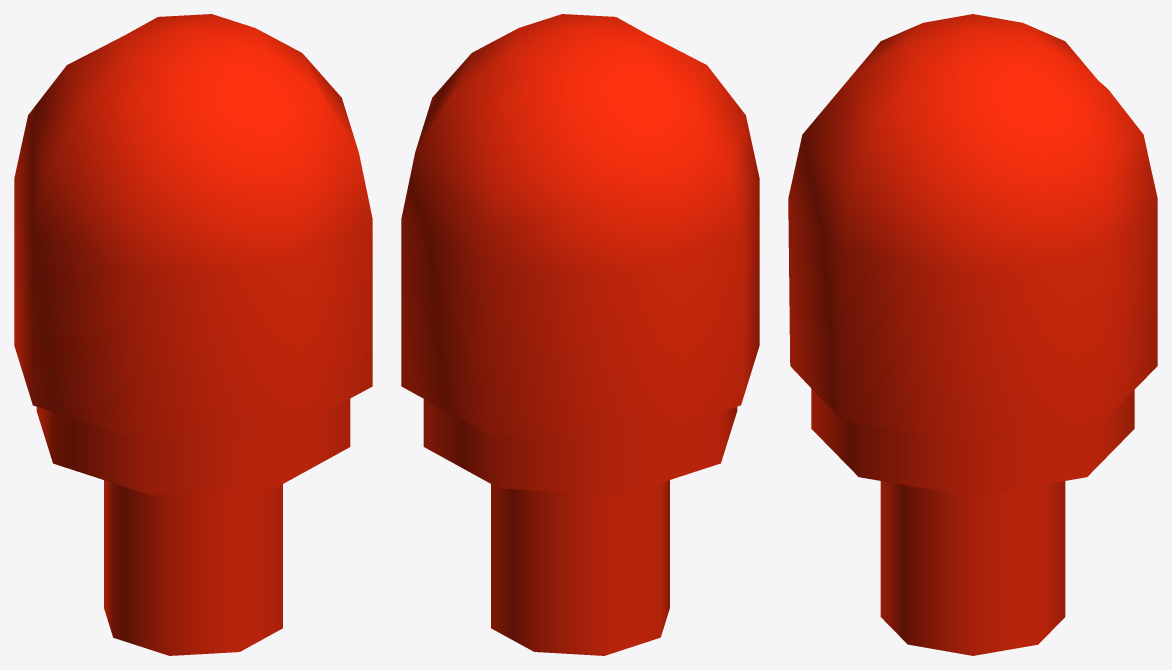
The model's file is PortalGun_AmmoOrange.obj.
The picture shows the model from 3 angles, left to right: view 1: azimuth 30°, elevation 25°; view 2: azimuth 150°, elevation 25°; view 3: azimuth 270°, elevation 25°; orthographic projection.
Visible parts, largest first — view 1: CHELLPORTALGUN_NXG0002; view 2: CHELLPORTALGUN_NXG0002; view 3: CHELLPORTALGUN_NXG0002.
Part boxes in pixels (bbox=[...]): CHELLPORTALGUN_NXG0002: bbox=[14, 14, 372, 655]; CHELLPORTALGUN_NXG0002: bbox=[401, 14, 759, 655]; CHELLPORTALGUN_NXG0002: bbox=[788, 14, 1157, 655].
Bounding box in the file's own units: 0.064 × 0.112 × 0.064.
Materials: 1 (1 with a texture image).
